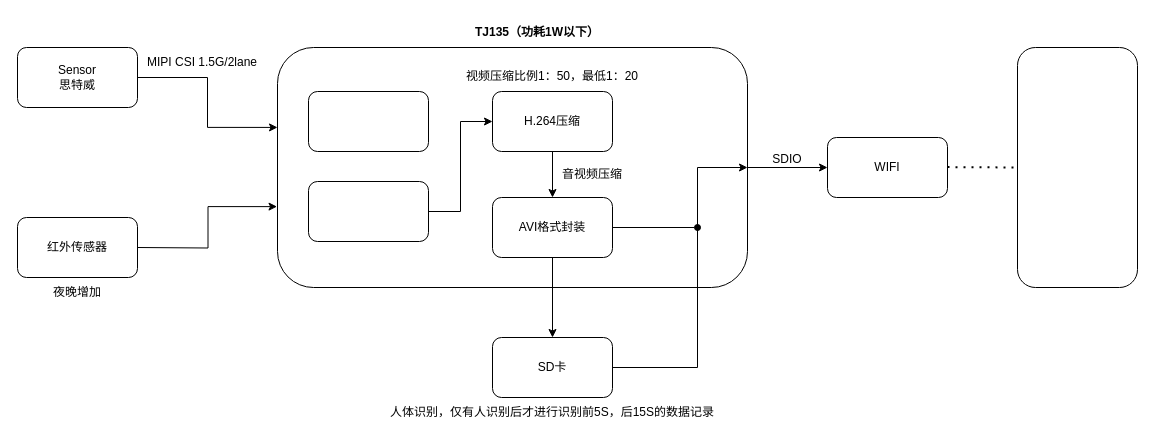
Image size: 1155x444. Some labels were removed from this diagram. Each missing label, with the centre of its shape:
"eCNN（Yolo v5n）" goes at [368,211].
"RISC-V" goes at [368,121].
"手机 720 X 1280 15fps （人体识别时帧率可以再低5-10帧）" goes at [1077,167].
